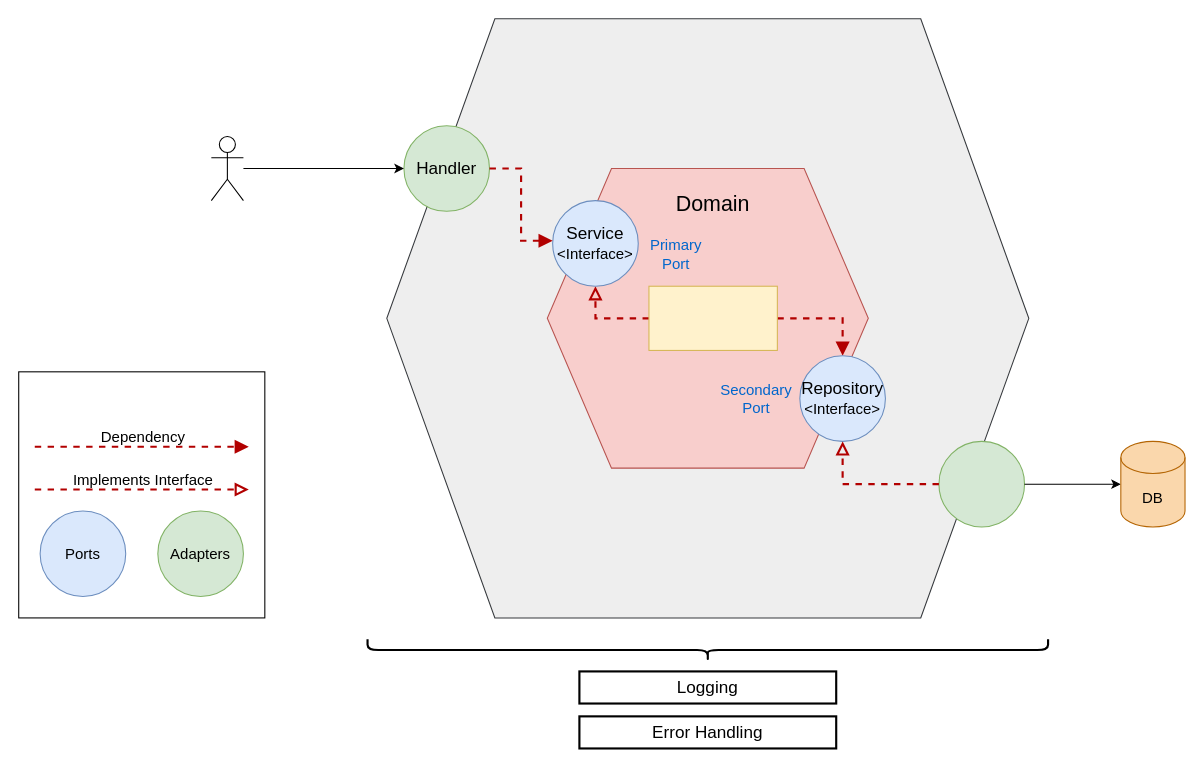
This 1204x768 diagram has some shape labels left out. Here are the shapes that lost their labels. From the top down, the centre of each, then its label:
At point 226,168: "Actor".
At point 712,317: "Business Logic".
At point 981,483: "Database Adapter".
